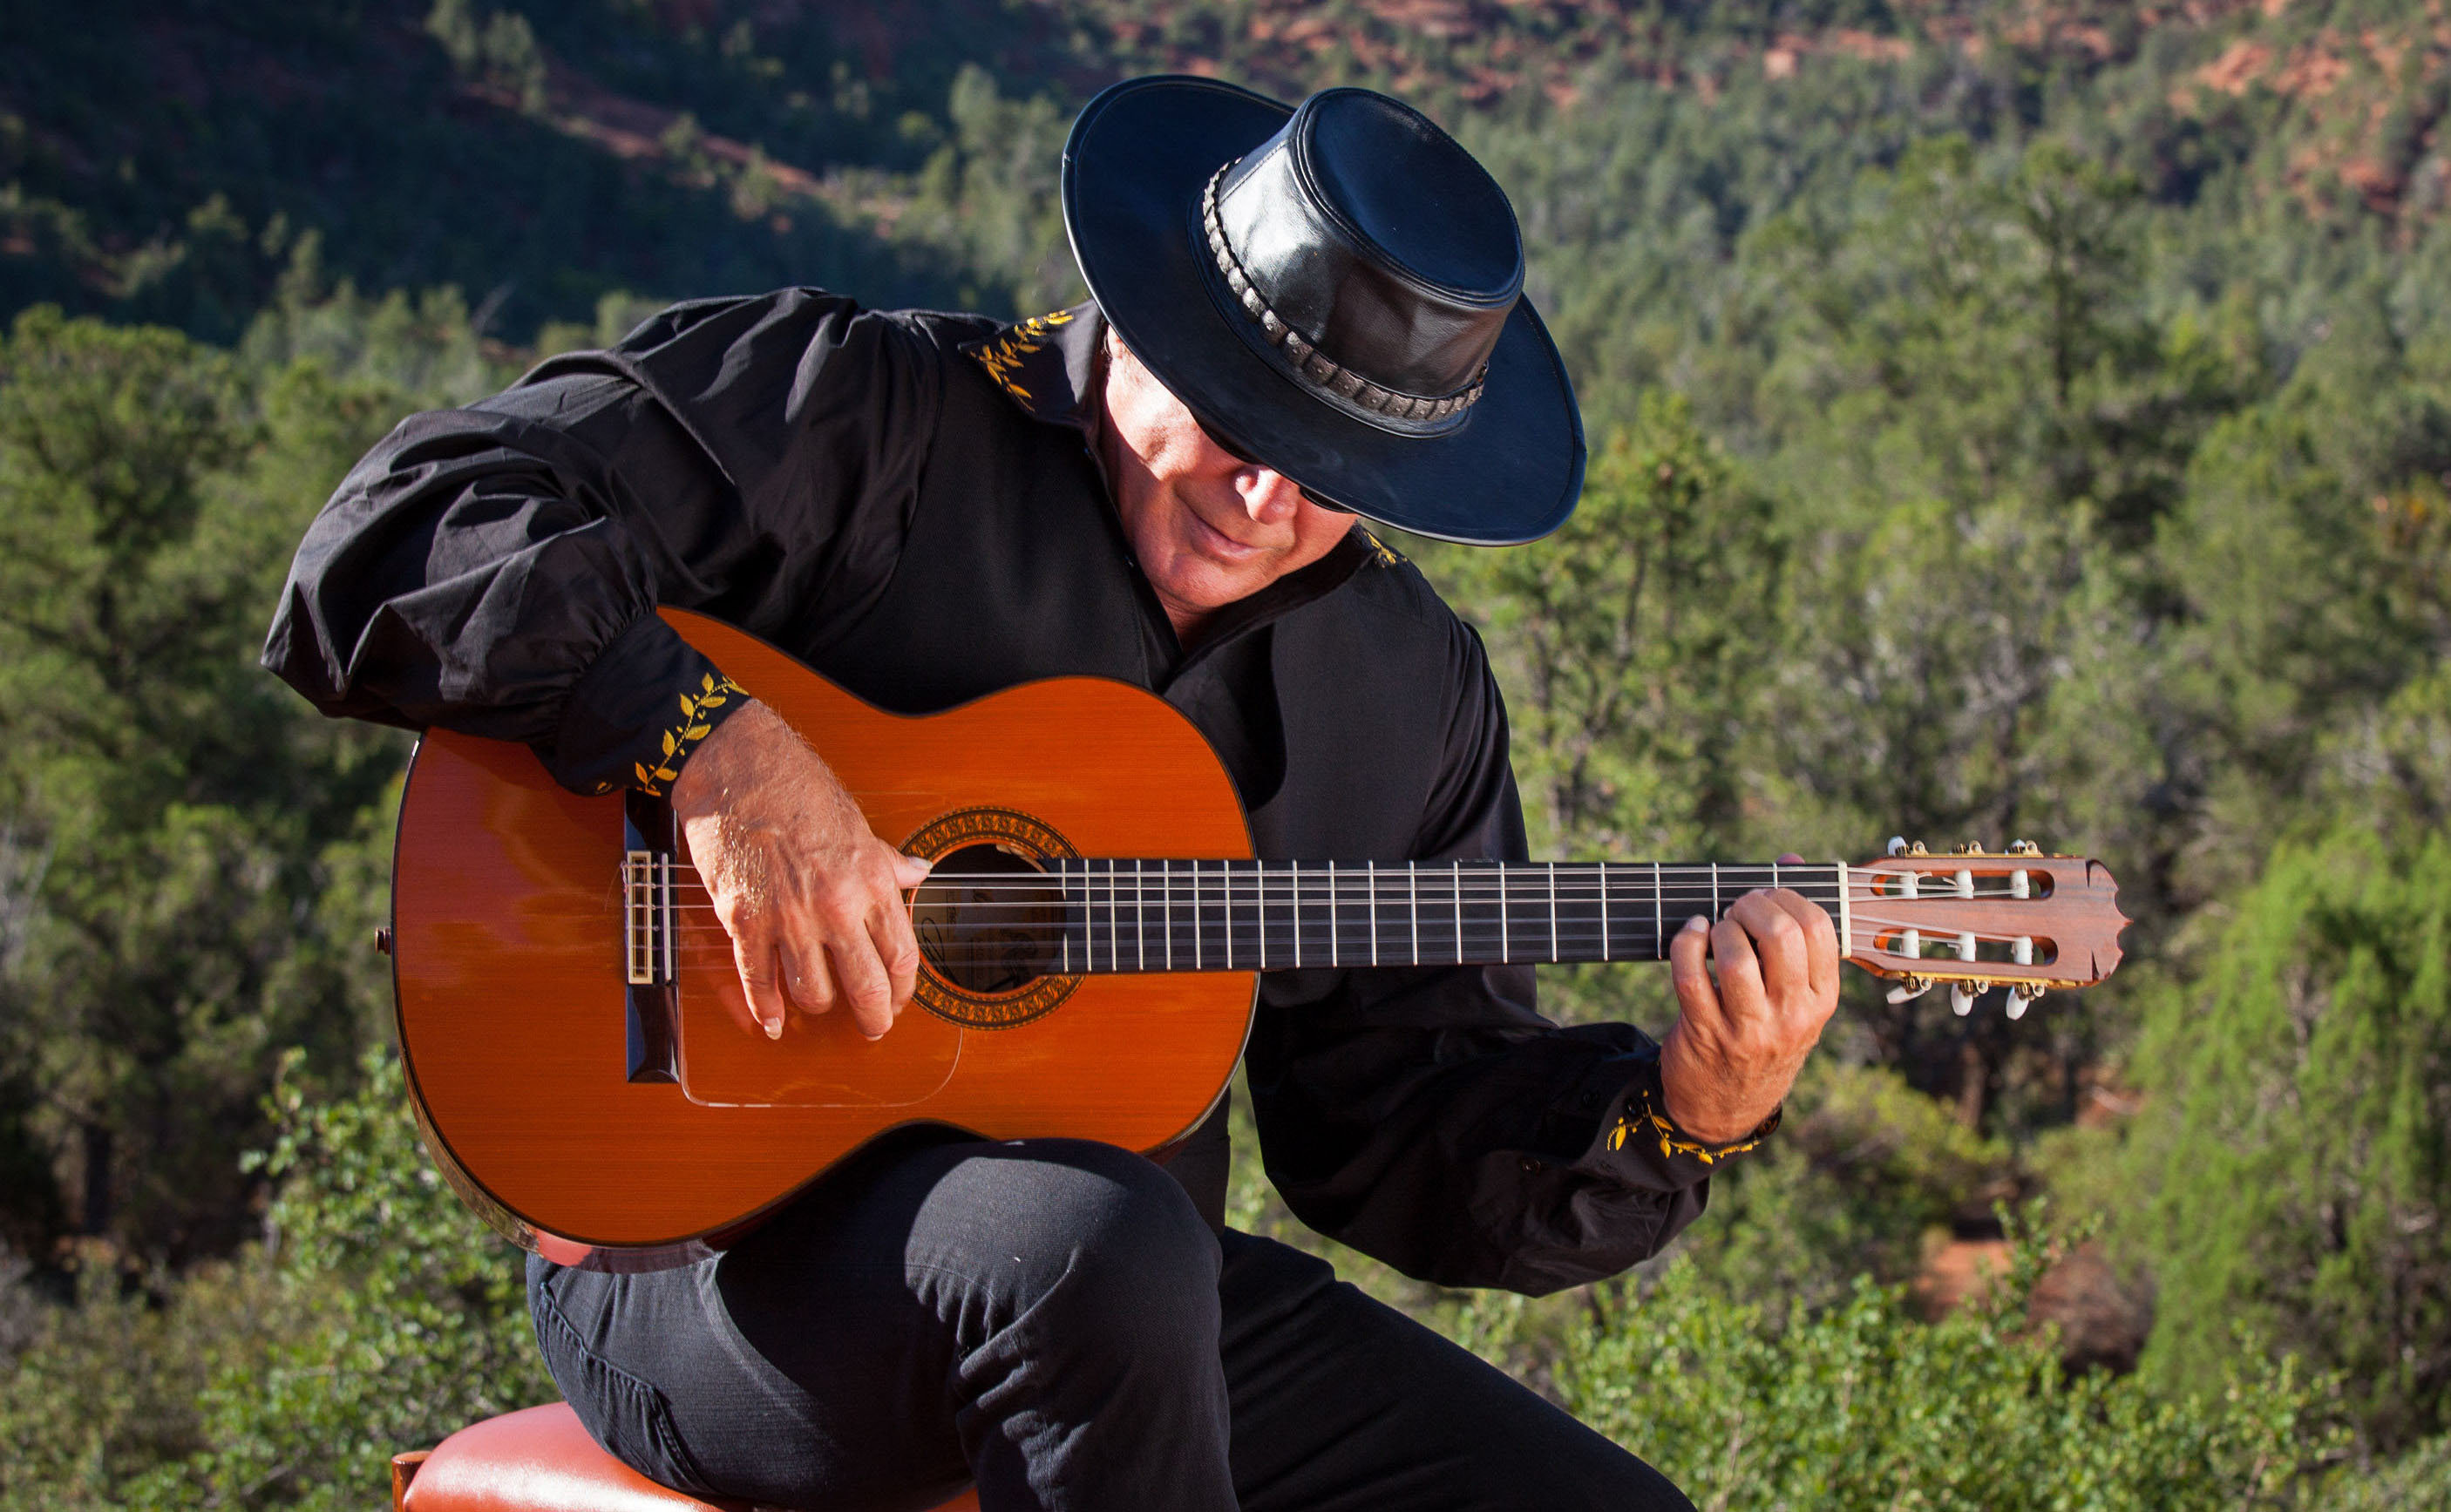0 classic: (376, 600, 2131, 1270)
